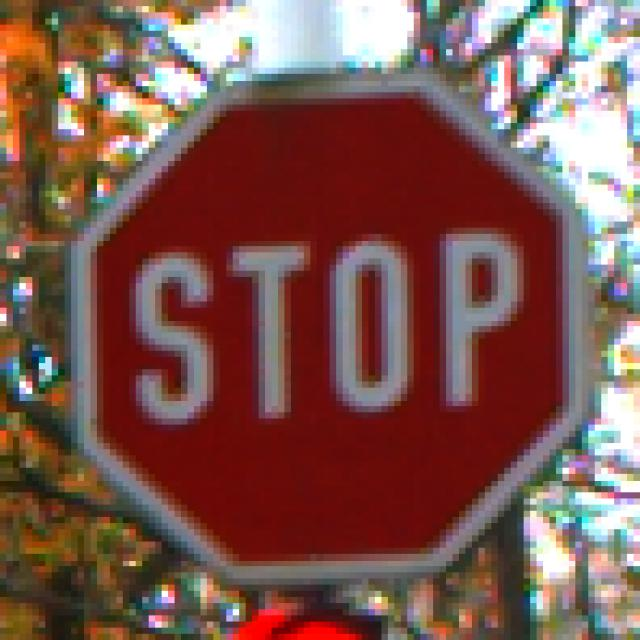STOP: (53, 57, 589, 580)
